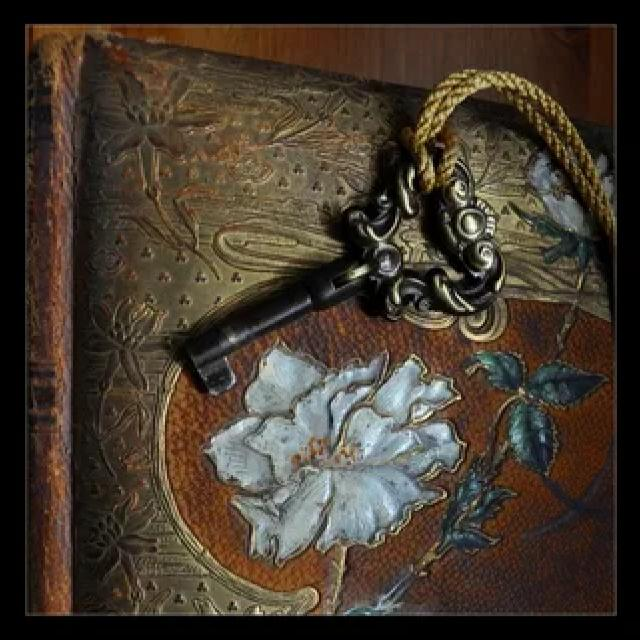key: (168, 152, 520, 418)
